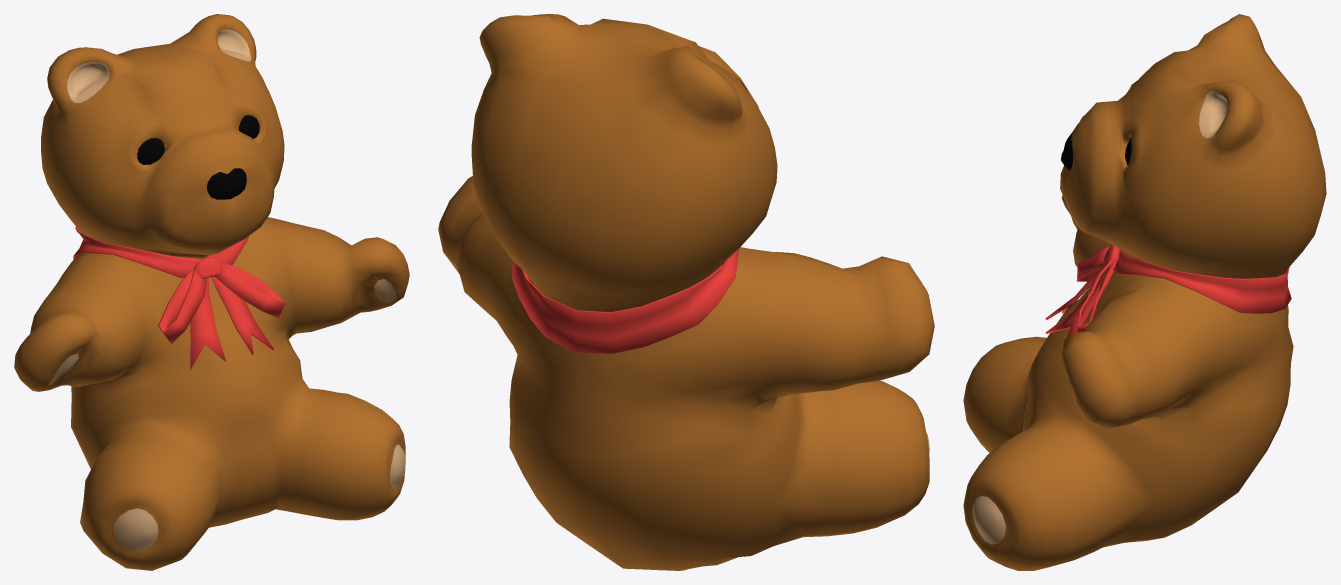
The model's file is Prize_GiantTeddyBear_Model.fbx.
3 views of the same model, side by side, from view 1: azimuth 30°, elevation 25°; view 2: azimuth 150°, elevation 25°; view 3: azimuth 270°, elevation 25° (orthographic). The views are drawn at different scales.
Parts seen in each view (by area): view 1: GiantTeddyBear; view 2: GiantTeddyBear; view 3: GiantTeddyBear.
Boxes of the visible parts, x1=… form: GiantTeddyBear: x1=14, y1=14, x2=409, y2=570; GiantTeddyBear: x1=438, y1=14, x2=934, y2=570; GiantTeddyBear: x1=963, y1=14, x2=1326, y2=570.
Bounding box in the file's own units: 4.92 × 5.44 × 3.77.
